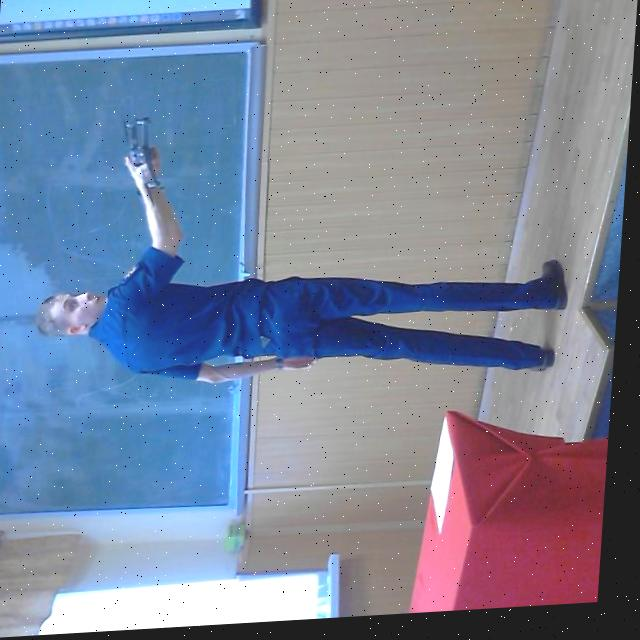drone: (107, 99, 180, 205)
